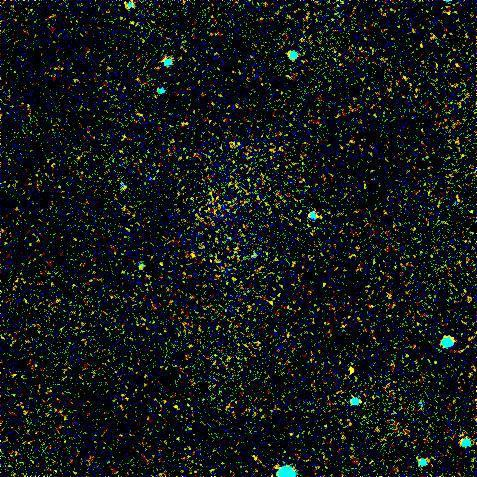star: (178, 238, 208, 268)
